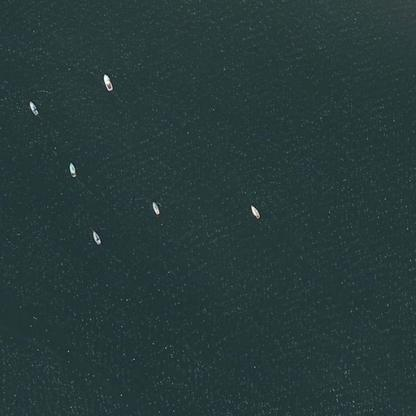ship: (248, 203, 261, 219), (68, 161, 76, 177), (31, 16, 35, 31), (11, 229, 14, 245), (23, 73, 25, 90), (154, 200, 155, 214)
